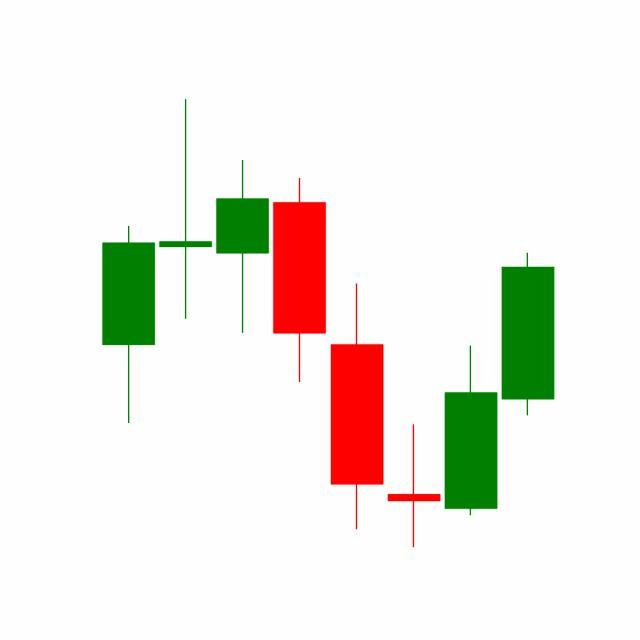Morning Star: (328, 280, 500, 549)
